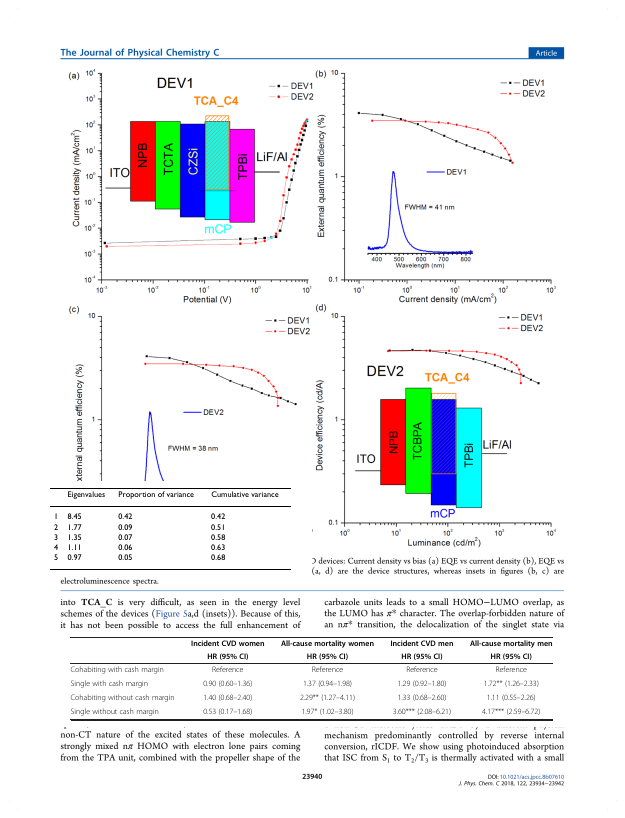borderless: (69, 635, 552, 719), (49, 486, 291, 570)
cell: (69, 693, 175, 703), (69, 665, 165, 675), (70, 707, 160, 717), (280, 639, 375, 648), (69, 679, 149, 689), (117, 490, 194, 500), (469, 639, 553, 648), (210, 490, 279, 500), (190, 639, 265, 648), (392, 707, 452, 717), (481, 707, 541, 717), (389, 639, 454, 648), (483, 679, 540, 689), (299, 693, 356, 703), (300, 707, 354, 717), (202, 679, 253, 689), (302, 679, 353, 689), (396, 679, 447, 689), (202, 693, 253, 703), (396, 693, 447, 703), (486, 693, 537, 703), (202, 707, 253, 717), (206, 652, 249, 662), (306, 652, 349, 662), (400, 652, 443, 662), (490, 652, 533, 662), (66, 490, 106, 500), (405, 665, 439, 675), (494, 665, 528, 675), (211, 665, 244, 675), (311, 665, 344, 675), (66, 523, 82, 533), (117, 523, 133, 533), (210, 523, 226, 533), (66, 533, 82, 543), (117, 533, 133, 543), (210, 533, 226, 543), (66, 543, 82, 553), (117, 543, 133, 553), (210, 543, 226, 553), (66, 513, 82, 522), (117, 513, 133, 522), (210, 513, 226, 522), (66, 554, 82, 563), (117, 554, 133, 563), (210, 554, 226, 563), (52, 523, 59, 533), (52, 533, 59, 543), (52, 543, 59, 553), (52, 513, 59, 522), (52, 554, 59, 563)
